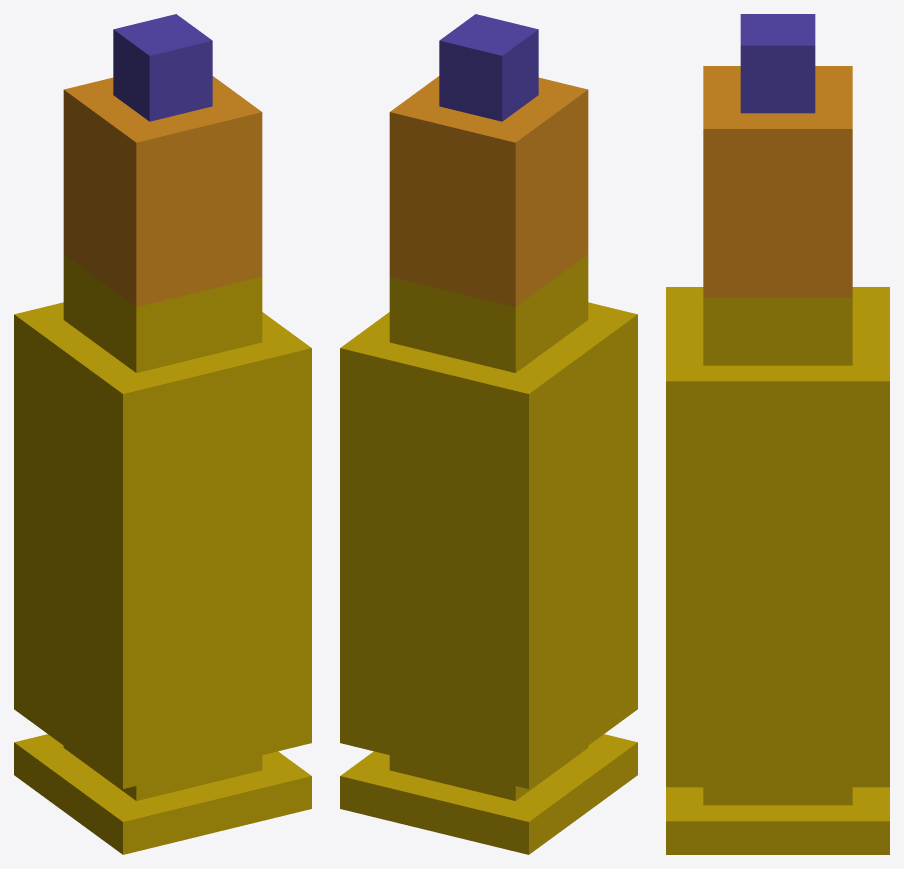
Rendered from bullpup_sub_bullet.fbx.
3 renders of one model, left to right at view 1: azimuth 30°, elevation 25°; view 2: azimuth 150°, elevation 25°; view 3: azimuth 270°, elevation 25°, orthographic. The views are drawn at different scales.
Parts seen in each view (by area): view 1: bullpup_sub_capsule, bullpup_sub_bullet; view 2: bullpup_sub_capsule, bullpup_sub_bullet; view 3: bullpup_sub_capsule, bullpup_sub_bullet.
Boxes of the visible parts, <box> form: bullpup_sub_capsule: <box>14,254,311,854</box>; bullpup_sub_bullet: <box>63,14,262,307</box>; bullpup_sub_capsule: <box>340,254,637,854</box>; bullpup_sub_bullet: <box>389,14,588,307</box>; bullpup_sub_capsule: <box>666,287,889,854</box>; bullpup_sub_bullet: <box>703,14,852,297</box>.
Bounding box in the file's own units: 1.8 × 6.9 × 1.8.
